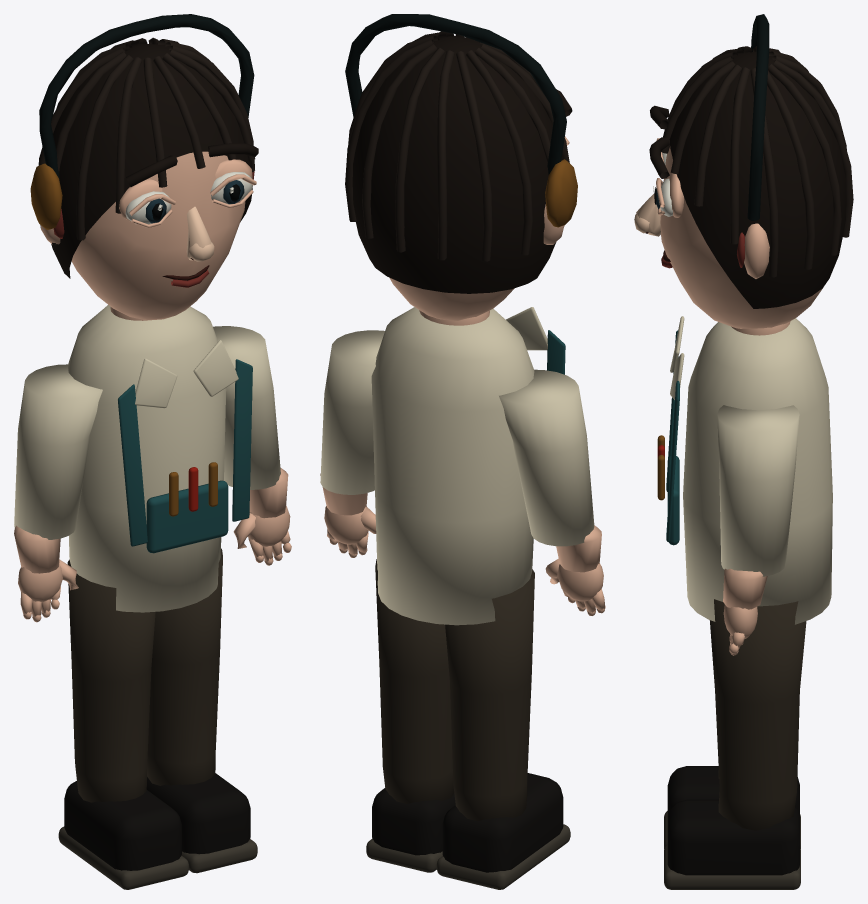
File: technician-01.glb
3 views of the same model, side by side, from view 1: azimuth 30°, elevation 25°; view 2: azimuth 150°, elevation 25°; view 3: azimuth 270°, elevation 25° (orthographic). The views are drawn at different scales.
Visible parts, largest first — view 1: Head, Body, LegL, LegR, ArmL, ArmR; view 2: Head, Body, LegL, LegR, ArmL, ArmR; view 3: Head, Body, LegR, ArmR, LegL.
Part boxes in pixels (box(x1,y1,x2,y2)): Head: box(30, 14, 258, 320); Body: box(68, 305, 252, 612); LegL: box(58, 559, 188, 889); LegR: box(146, 548, 257, 873); ArmL: box(14, 364, 102, 622); ArmR: box(213, 326, 291, 565); Head: box(345, 14, 577, 320); Body: box(371, 307, 565, 625); LegL: box(436, 569, 570, 889); LegR: box(366, 559, 455, 872); ArmL: box(499, 369, 605, 615); ArmR: box(320, 330, 384, 557); Head: box(634, 14, 853, 328); Body: box(657, 316, 832, 624); LegR: box(664, 599, 806, 889); ArmR: box(717, 405, 799, 655); LegL: box(664, 766, 800, 849).
Bounding box in the file's own units: 0.4978 × 1.45 × 0.3488.
